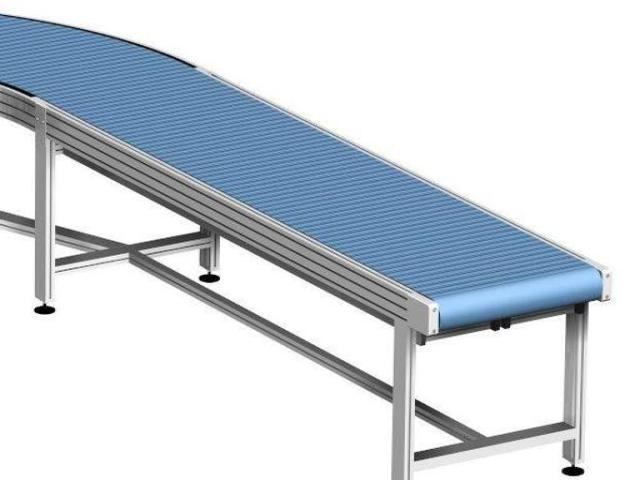conveyor: (0, 11, 616, 362)
